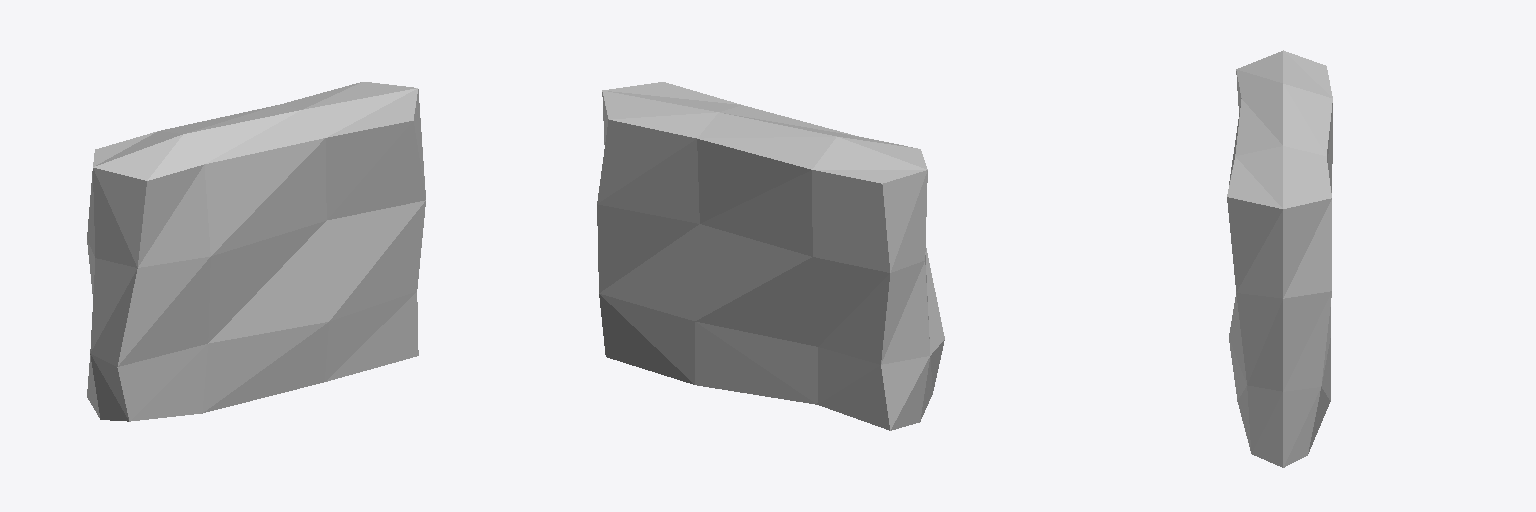
The model's file is Maze_Wall.obj.
3 views of the same model, side by side, from view 1: azimuth 30°, elevation 25°; view 2: azimuth 150°, elevation 25°; view 3: azimuth 270°, elevation 25° (orthographic).
Visible parts, largest first — view 1: pCube2; view 2: pCube2; view 3: pCube2.
Part boxes in pixels (x1,y1,x2,y2): pCube2: (87, 82, 425, 421); pCube2: (597, 82, 944, 430); pCube2: (1227, 50, 1332, 467).
Size of the model in its own units: 4.45 by 3.57 by 1.25.